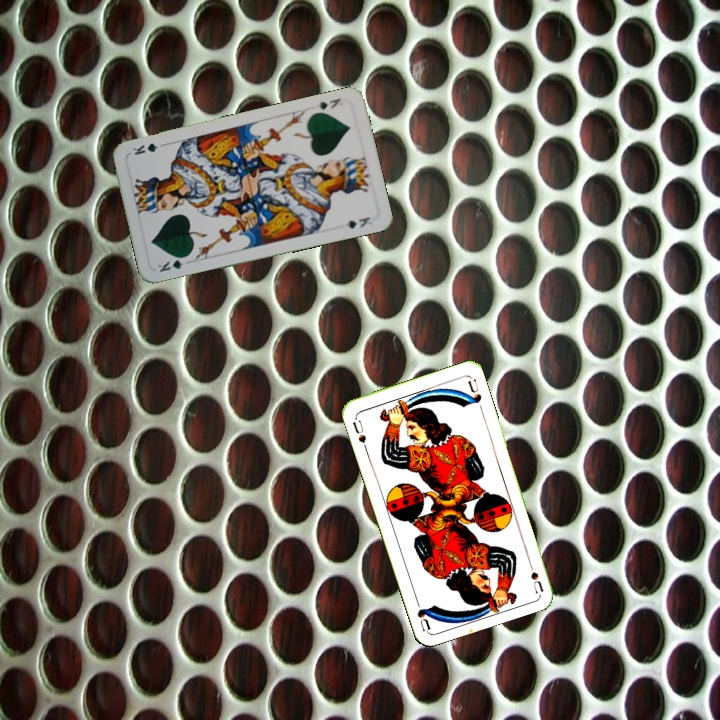GK: (154, 252, 193, 275), (312, 94, 343, 112)
SU: (524, 554, 546, 595), (348, 413, 370, 453)
